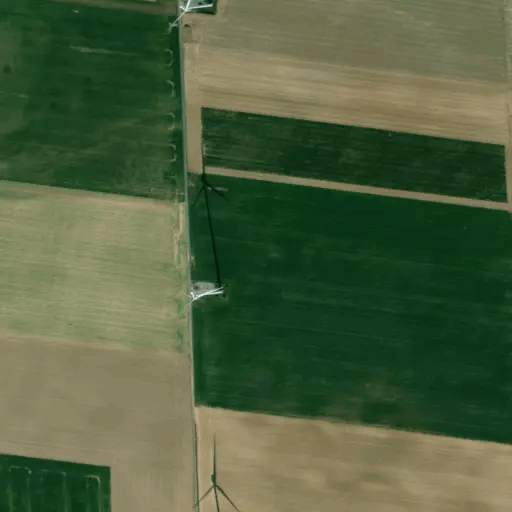wt: (171, 153, 238, 313)
